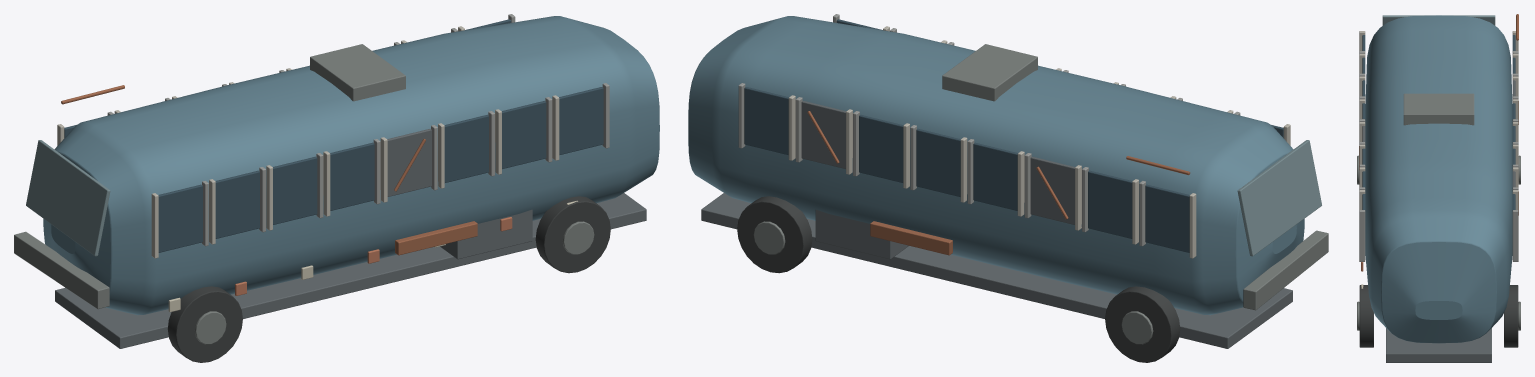
The model's file is Apoc_Vehicle_03_Abandoned_Bus.fbx.
The picture shows the model from 3 angles, left to right: view 1: azimuth 30°, elevation 25°; view 2: azimuth 150°, elevation 25°; view 3: azimuth 270°, elevation 25°; orthographic projection. The views are drawn at different scales.
Parts seen in each view (by area): view 1: Apoc_Vehicle_03_Abandoned_Bus; view 2: Apoc_Vehicle_03_Abandoned_Bus; view 3: Apoc_Vehicle_03_Abandoned_Bus.
Part boxes in pixels (left/top/right/bottom): Apoc_Vehicle_03_Abandoned_Bus: left=14, top=14, right=659, bottom=362; Apoc_Vehicle_03_Abandoned_Bus: left=688, top=14, right=1328, bottom=362; Apoc_Vehicle_03_Abandoned_Bus: left=1357, top=14, right=1520, bottom=362.
Size of the model in its own units: 8.37 by 2.91 by 2.5.
